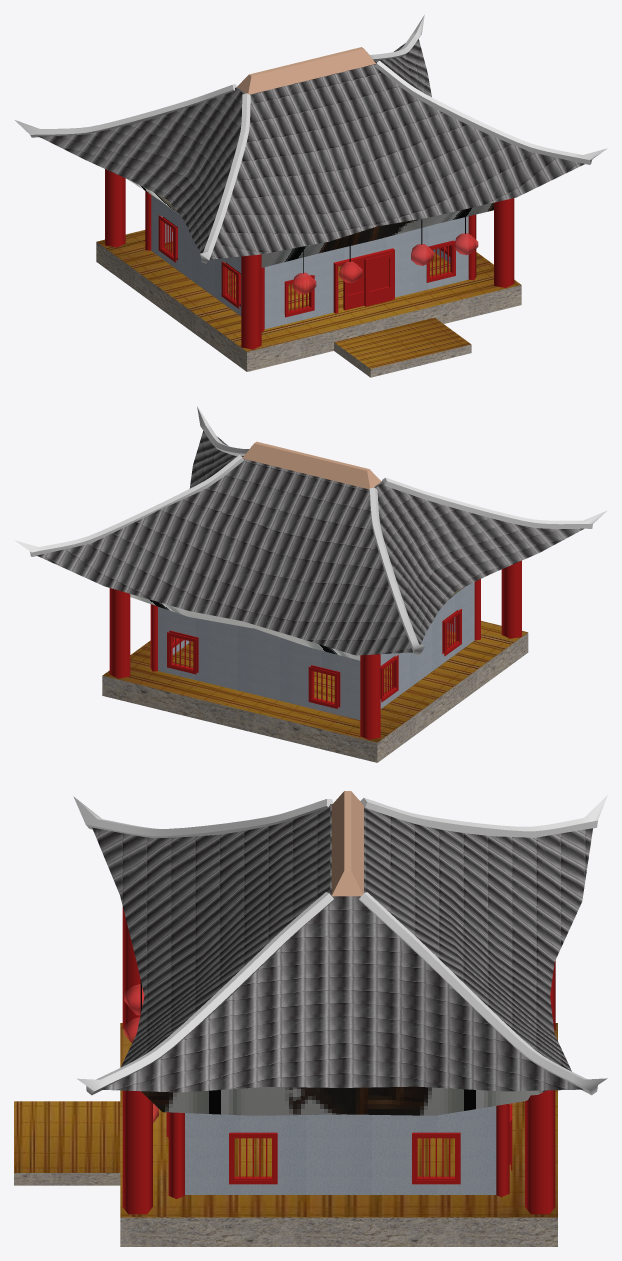
The model's file is Hut.obj.
3 renders of one model, top to bottom at view 1: azimuth 30°, elevation 25°; view 2: azimuth 150°, elevation 25°; view 3: azimuth 270°, elevation 25°, orthographic. The views are drawn at different scales.
Parts seen in each view (by area): view 1: Roof, Base, main, pillar, roof_deco, windows, support_roof, Door, deco, light; view 2: Roof, Base, main, pillar, roof_deco, windows, deco, support_roof; view 3: Roof, Base, main, roof_deco, pillar, support_roof, windows, deco, light.
Boxes of the visible parts, bbox=[...] form: Roof: bbox=[38, 39, 584, 259]; Base: bbox=[96, 230, 521, 377]; main: bbox=[151, 195, 468, 329]; pillar: bbox=[105, 169, 514, 349]; roof_deco: bbox=[15, 15, 607, 263]; windows: bbox=[158, 215, 455, 317]; support_roof: bbox=[127, 179, 493, 267]; Door: bbox=[333, 248, 394, 313]; deco: bbox=[237, 47, 375, 94]; light: bbox=[292, 233, 478, 294]; Roof: bbox=[37, 431, 583, 655]; Base: bbox=[102, 621, 528, 762]; main: bbox=[158, 582, 474, 720]; pillar: bbox=[109, 560, 521, 739]; roof_deco: bbox=[15, 406, 607, 655]; windows: bbox=[167, 609, 461, 708]; deco: bbox=[242, 441, 381, 489]; support_roof: bbox=[130, 586, 465, 660]; Roof: bbox=[92, 804, 592, 1092]; Base: bbox=[14, 1023, 557, 1246]; main: bbox=[185, 1106, 496, 1194]; roof_deco: bbox=[73, 795, 607, 1095]; pillar: bbox=[122, 907, 555, 1214]; support_roof: bbox=[141, 1086, 546, 1115]; windows: bbox=[229, 1103, 512, 1184]; deco: bbox=[331, 791, 363, 896]; light: bbox=[124, 984, 158, 1122].
Bounding box in the file's own units: 25.8 × 13.17 × 22.23.
